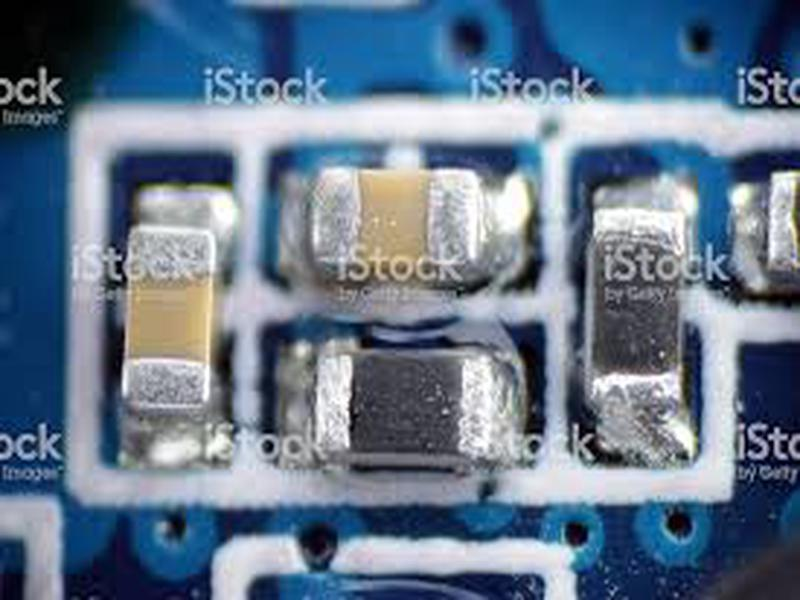SMD capacitor: (308, 161, 496, 294)
